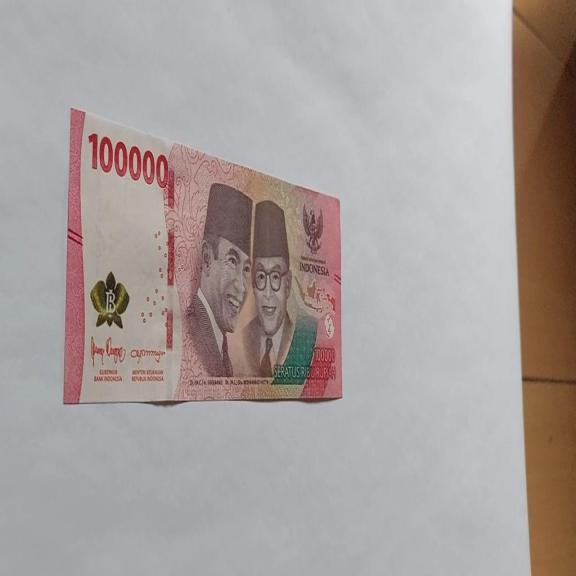Kertas: (64, 106, 344, 406), (87, 130, 169, 190)
